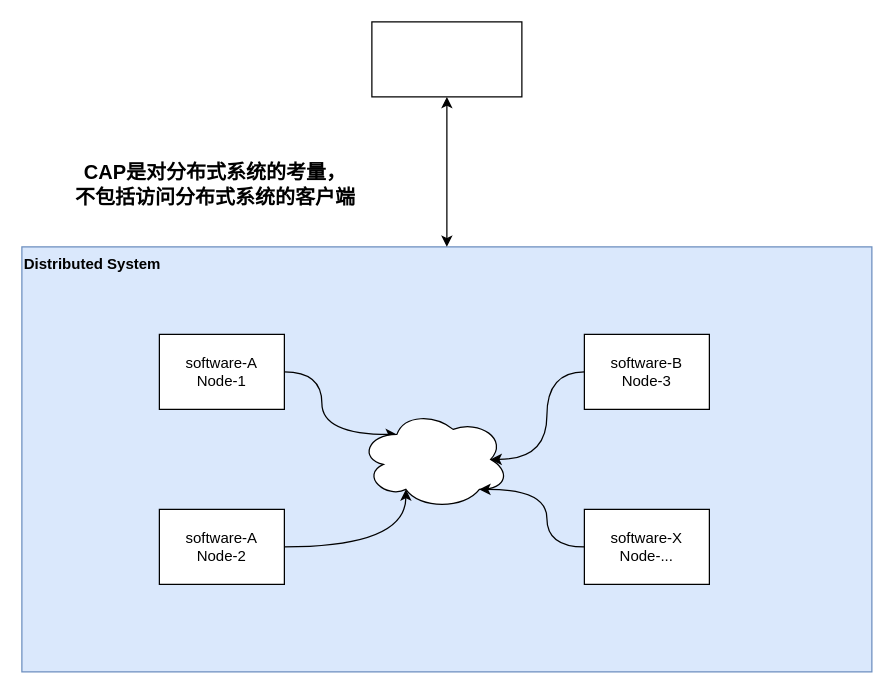
Image size: 894x694. Some labels were removed from this diagram. Each missing label, with the centre of its shape:
"Client" goes at (x=446, y=59).
"network" goes at (x=433, y=458).
